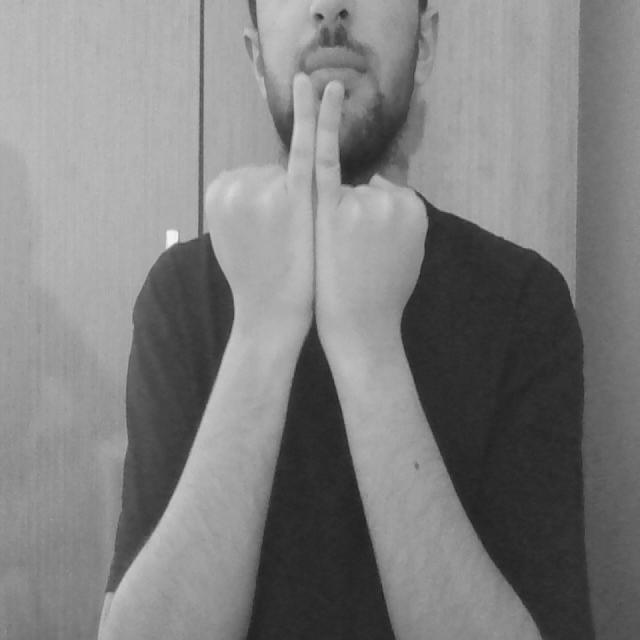Kardes: (198, 66, 436, 345)
